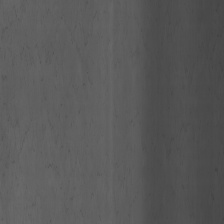silk_spot: (7, 23, 82, 184)
